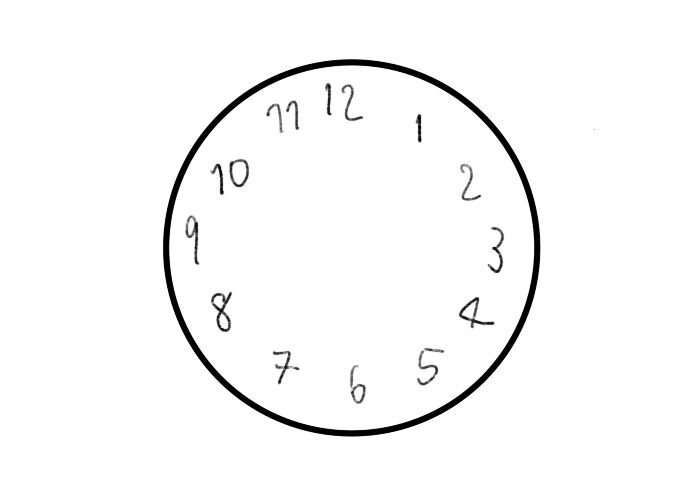eight: (209, 289, 237, 336)
eleven: (267, 100, 302, 132)
five: (415, 343, 446, 387)
four: (455, 289, 495, 333)
nine: (181, 215, 205, 266)
one: (409, 109, 429, 142)
seven: (271, 342, 301, 389)
six: (344, 360, 369, 407)
ten: (210, 159, 255, 196)
three: (484, 222, 506, 275)
twelve: (321, 79, 367, 123)
two: (452, 163, 481, 200)
